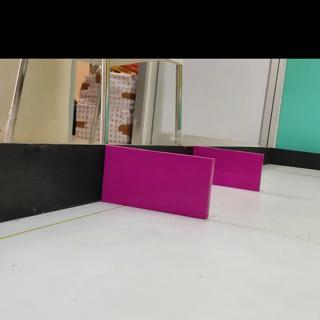xparking: (103, 144, 212, 219), (215, 150, 261, 191)
